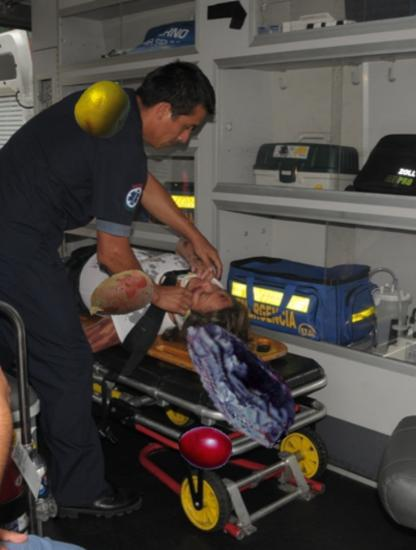Dates: (167, 307, 313, 453)
Pomelo: (73, 79, 134, 140)
Potato: (85, 259, 157, 331)
Tamarillo: (178, 419, 237, 478)
